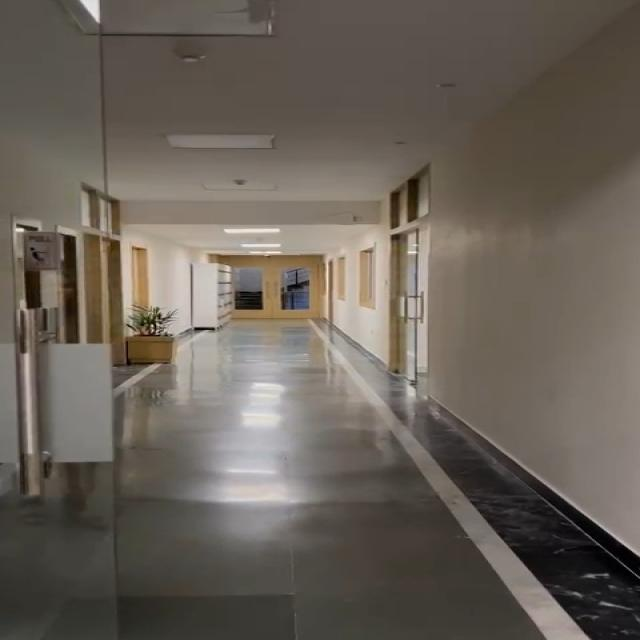door: (363, 192, 441, 397), (209, 251, 351, 328)
floor: (115, 352, 426, 640)
furniture: (110, 301, 185, 357)
wall: (438, 121, 640, 511)
